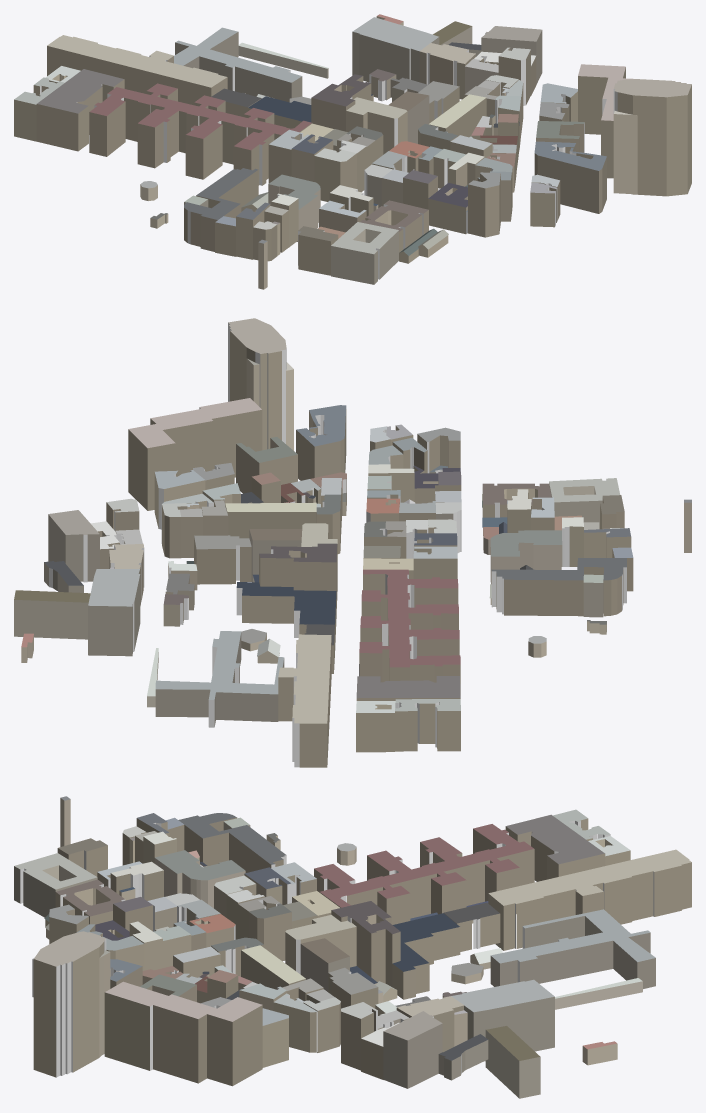
The picture shows the model from 3 angles, top to bottom: view 1: azimuth 30°, elevation 25°; view 2: azimuth 150°, elevation 25°; view 3: azimuth 270°, elevation 25°; orthographic projection. The views are drawn at different scales.
Parts seen in each view (by area): view 1: tuile; view 2: tuile; view 3: tuile.
Boxes of the visible parts, left/top/right/bottom form: tuile: left=14, top=14, right=691, bottom=289; tuile: left=14, top=318, right=691, bottom=767; tuile: left=14, top=796, right=691, bottom=1098.
Size of the model in its own units: 264 by 68.28 by 302.
